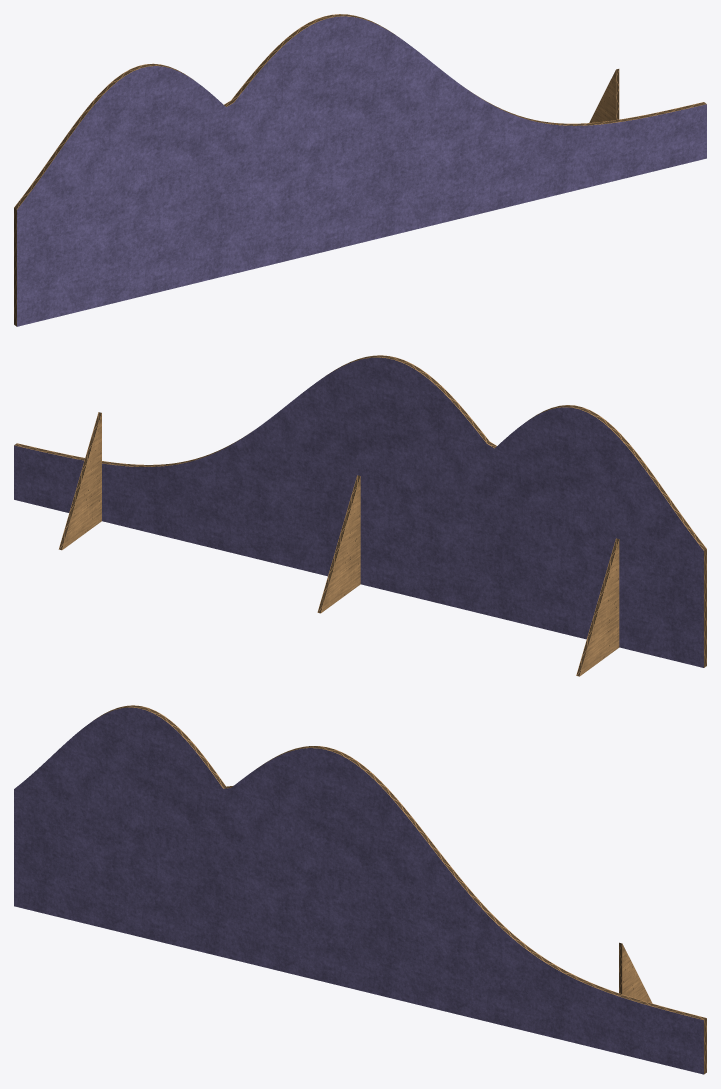
File: hill_backdrop_00_dusk.gltf
3 views of the same model, one above another, from view 1: azimuth 30°, elevation 25°; view 2: azimuth 150°, elevation 25°; view 3: azimuth 330°, elevation 25° (orthographic).
Parts seen in each view (by area): view 1: hill_backdrop_00_dusk; view 2: hill_backdrop_00_dusk; view 3: hill_backdrop_00_dusk.
Boxes of the visible parts, <box> form: hill_backdrop_00_dusk: <box>14,14,706,326</box>; hill_backdrop_00_dusk: <box>14,355,706,676</box>; hill_backdrop_00_dusk: <box>14,705,706,1074</box>.
Bounding box in the file's own units: 8 × 2.58 × 0.86.
3 materials, 3 textured.
